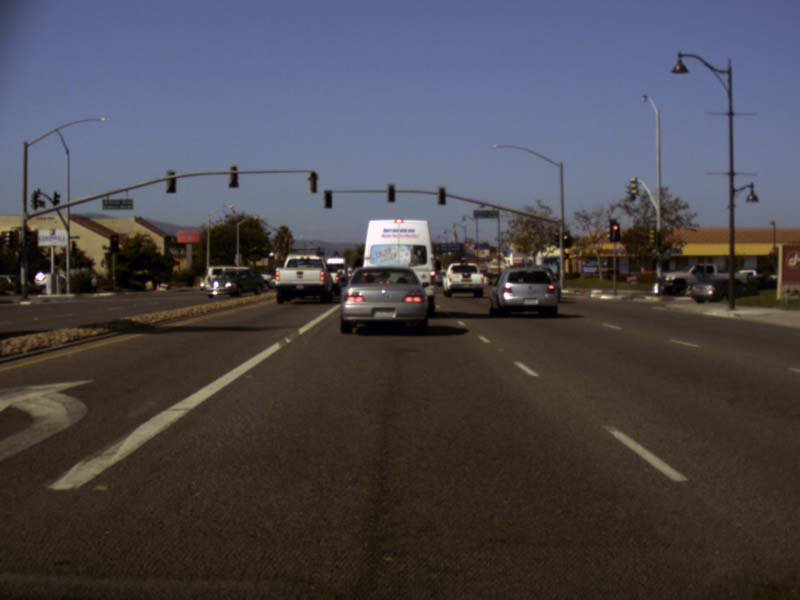Red: (609, 222, 620, 241), (562, 232, 570, 247)
